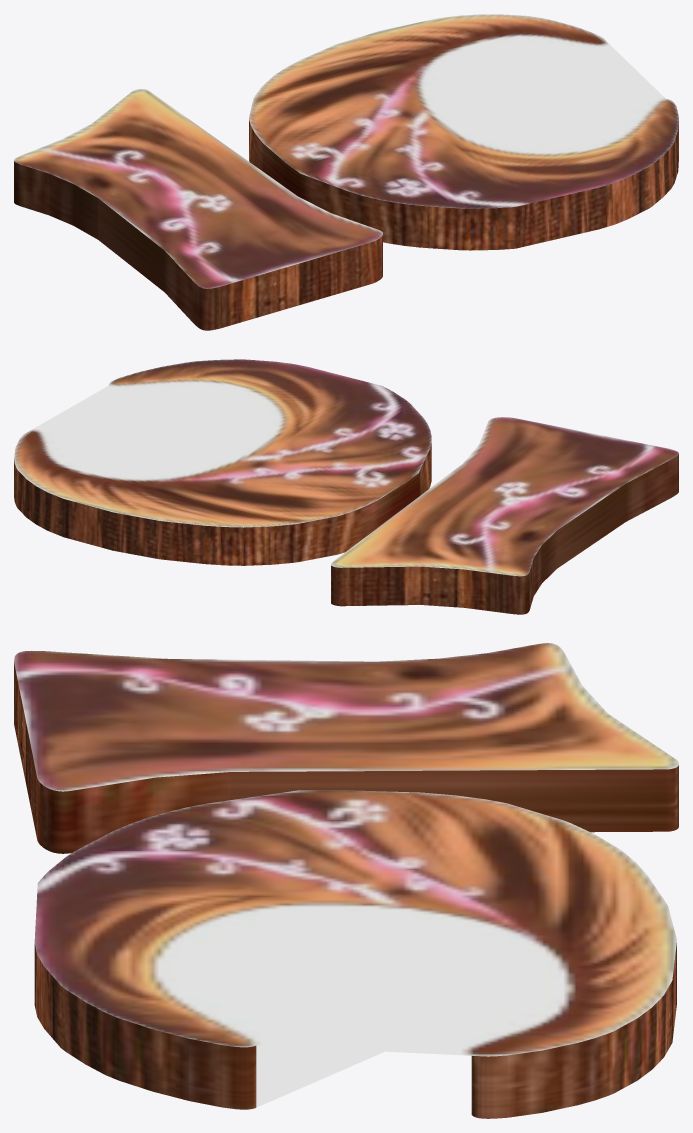
File: FICUSIA (IC).fbx
3 views of the same model, one above another, from view 1: azimuth 30°, elevation 25°; view 2: azimuth 150°, elevation 25°; view 3: azimuth 270°, elevation 25° (orthographic). The views are drawn at different scales.
Parts seen in each view (by area): view 1: Trace.012, Trace.013; view 2: Trace.012, Trace.013; view 3: Trace.012, Trace.013.
Boxes of the visible parts, bbox=[...] form: Trace.012: bbox=[249, 14, 678, 250]; Trace.013: bbox=[14, 89, 382, 330]; Trace.012: bbox=[14, 359, 431, 565]; Trace.013: bbox=[331, 417, 678, 614]; Trace.012: bbox=[34, 790, 676, 1118]; Trace.013: bbox=[14, 643, 678, 853].
Bounding box in the file's own units: 76.13 × 5.35 × 51.76.
